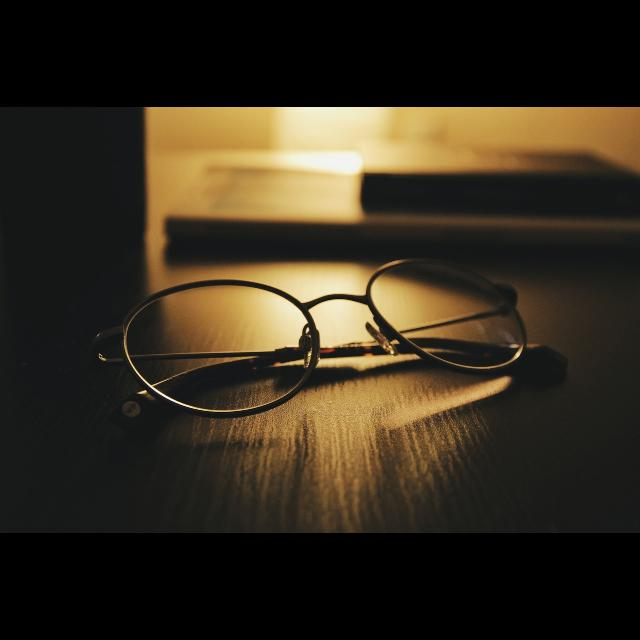glasses: (94, 258, 566, 420)
